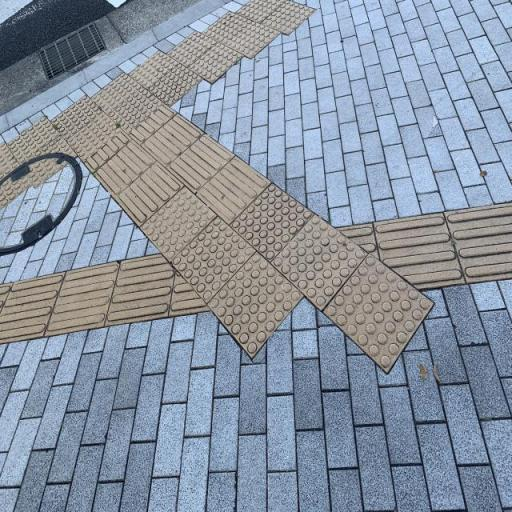dot: (322, 255, 434, 374), (207, 250, 303, 360), (269, 215, 369, 311), (171, 216, 258, 304), (228, 183, 316, 263), (139, 185, 218, 263)
line: (373, 212, 466, 290), (44, 262, 119, 337), (195, 157, 272, 225), (105, 253, 176, 325), (114, 161, 184, 227), (0, 272, 65, 343), (166, 133, 235, 193), (93, 140, 157, 200), (139, 114, 206, 168)
